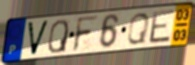6: (98, 13, 120, 50)
E: (148, 8, 176, 46)
F: (71, 14, 100, 54)
Q: (126, 11, 151, 46), (47, 18, 70, 54)
V: (26, 19, 51, 57)
